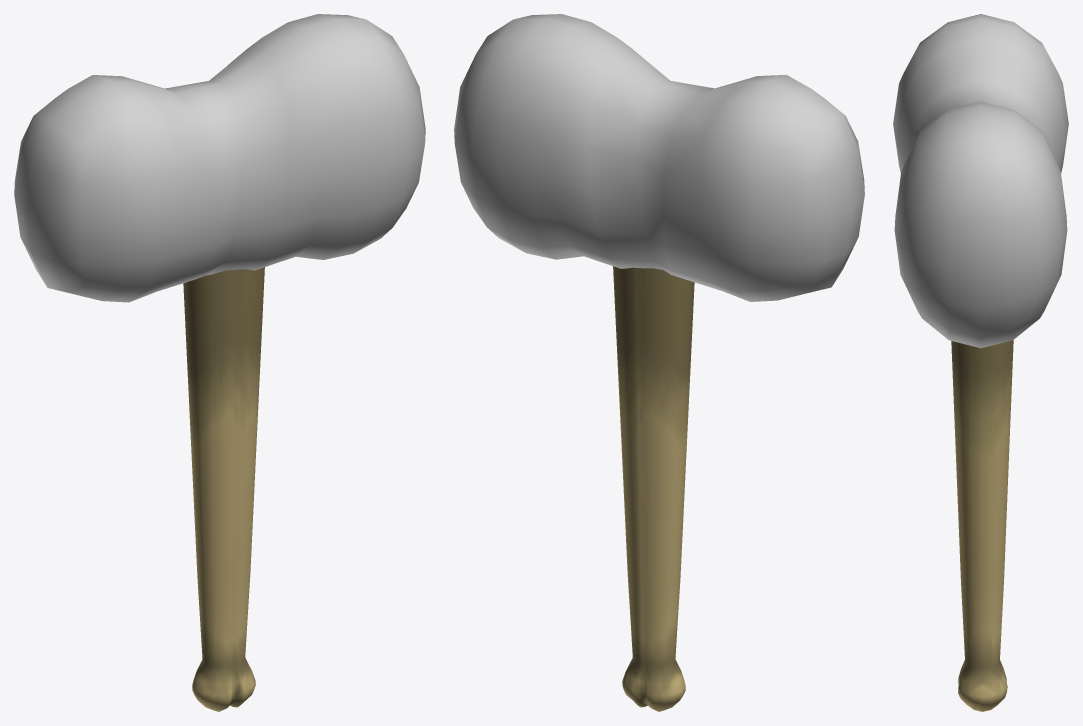
File: Hammer.fbx
3 renders of one model, left to right at view 1: azimuth 30°, elevation 25°; view 2: azimuth 150°, elevation 25°; view 3: azimuth 270°, elevation 25°, orthographic. The views are drawn at different scales.
Visible parts, largest first — view 1: hammerkopf, schaft; view 2: hammerkopf, schaft; view 3: hammerkopf, schaft.
Part boxes in pixels (box(x1,y1,x2,y2)): hammerkopf: box(14, 14, 425, 302); schaft: box(183, 267, 264, 711); hammerkopf: box(454, 14, 864, 301); schaft: box(613, 266, 694, 711); hammerkopf: box(893, 14, 1068, 348); schaft: box(951, 340, 1013, 711).
Bounding box in the file's own units: 6.25 × 10.25 × 2.55.
